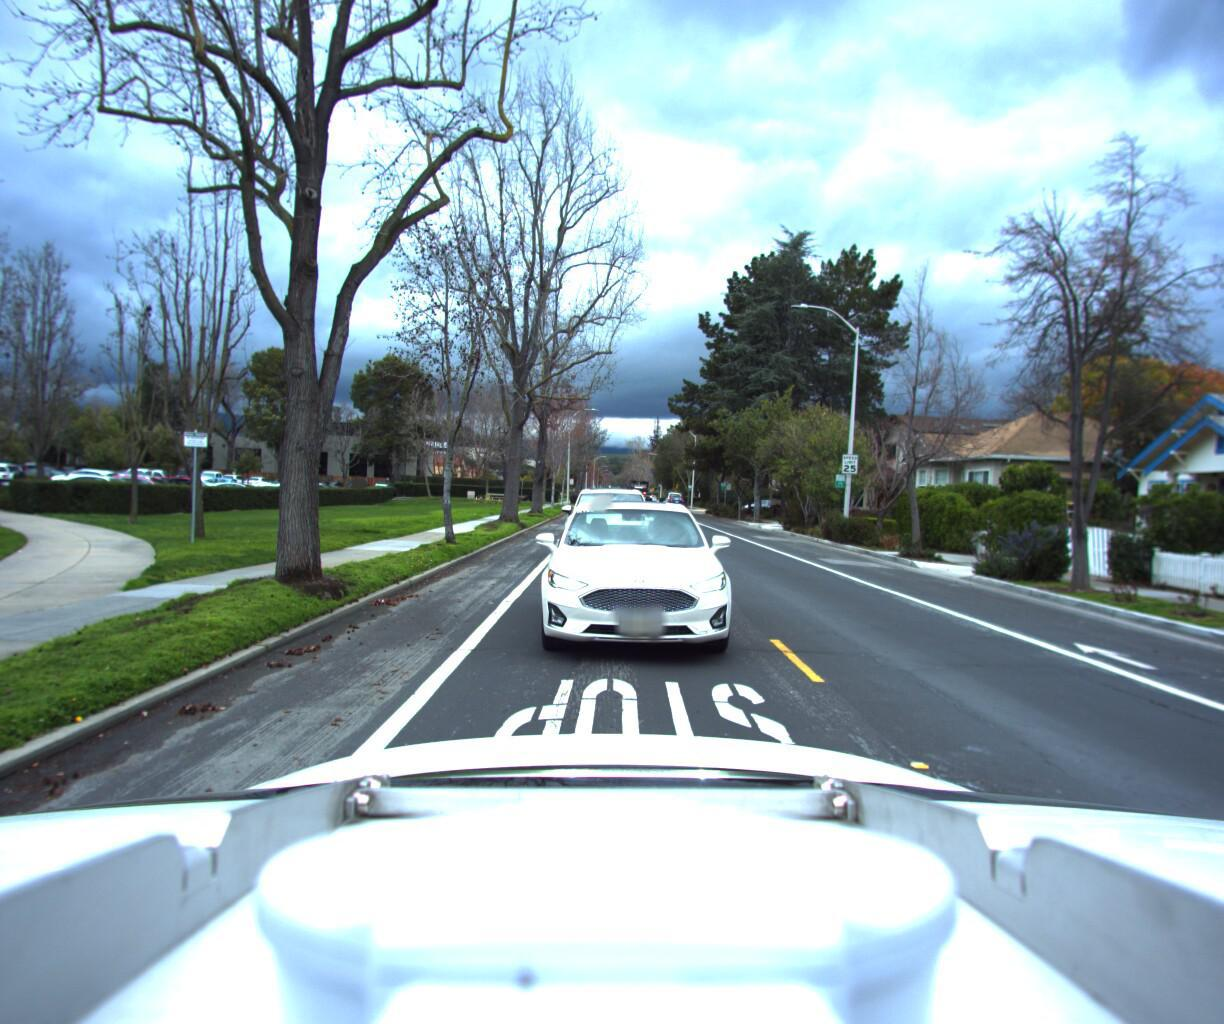car: (529, 497, 755, 685), (560, 487, 656, 566)
